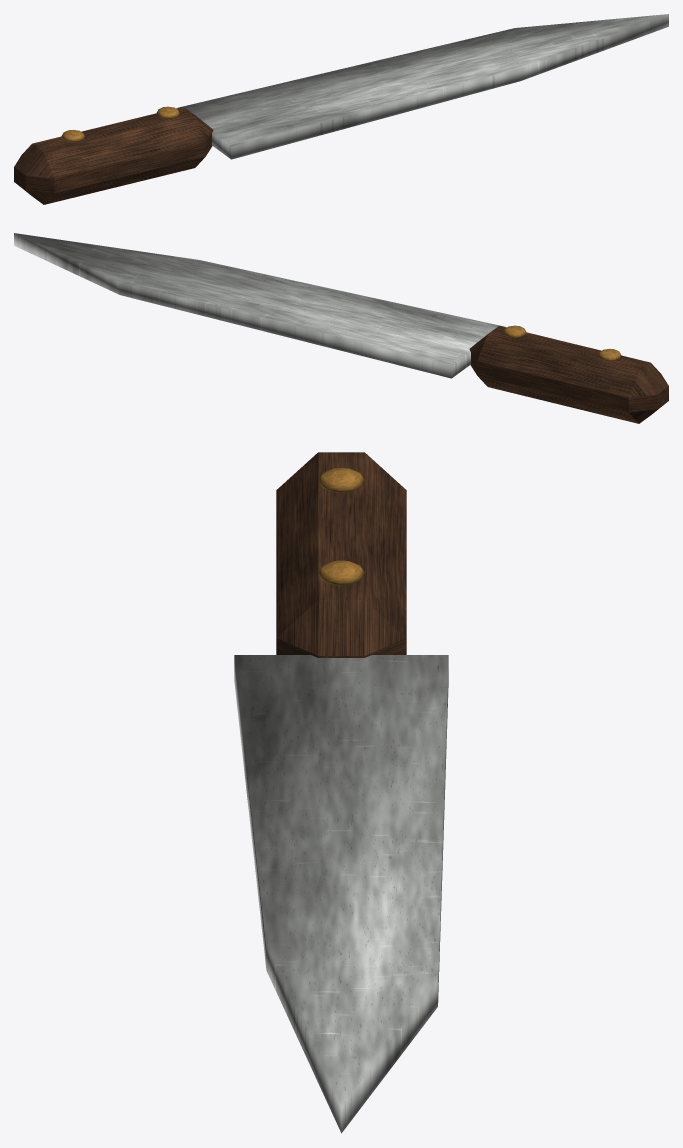
Rendered from knife_kitchen.glb.
3 views of the same model, one above another, from view 1: azimuth 30°, elevation 25°; view 2: azimuth 150°, elevation 25°; view 3: azimuth 270°, elevation 25° (orthographic). The views are drawn at different scales.
Visible parts, largest first — view 1: steel, oak_dark, brass; view 2: steel, oak_dark, brass; view 3: steel, oak_dark, brass.
Boxes of the visible parts, x1,y1,x2,y2 form: steel: [178, 14, 668, 159]; oak_dark: [14, 106, 213, 204]; brass: [62, 106, 179, 142]; steel: [14, 233, 504, 378]; oak_dark: [469, 325, 668, 423]; brass: [503, 325, 620, 361]; steel: [234, 655, 448, 1133]; oak_dark: [276, 452, 406, 657]; brass: [318, 468, 364, 585].
Size of the model in its own units: 0.3215 by 0.0285 by 0.046.
3 materials, 3 textured.
